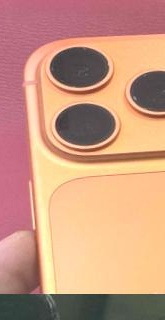scratch: (4, 294, 62, 320)
